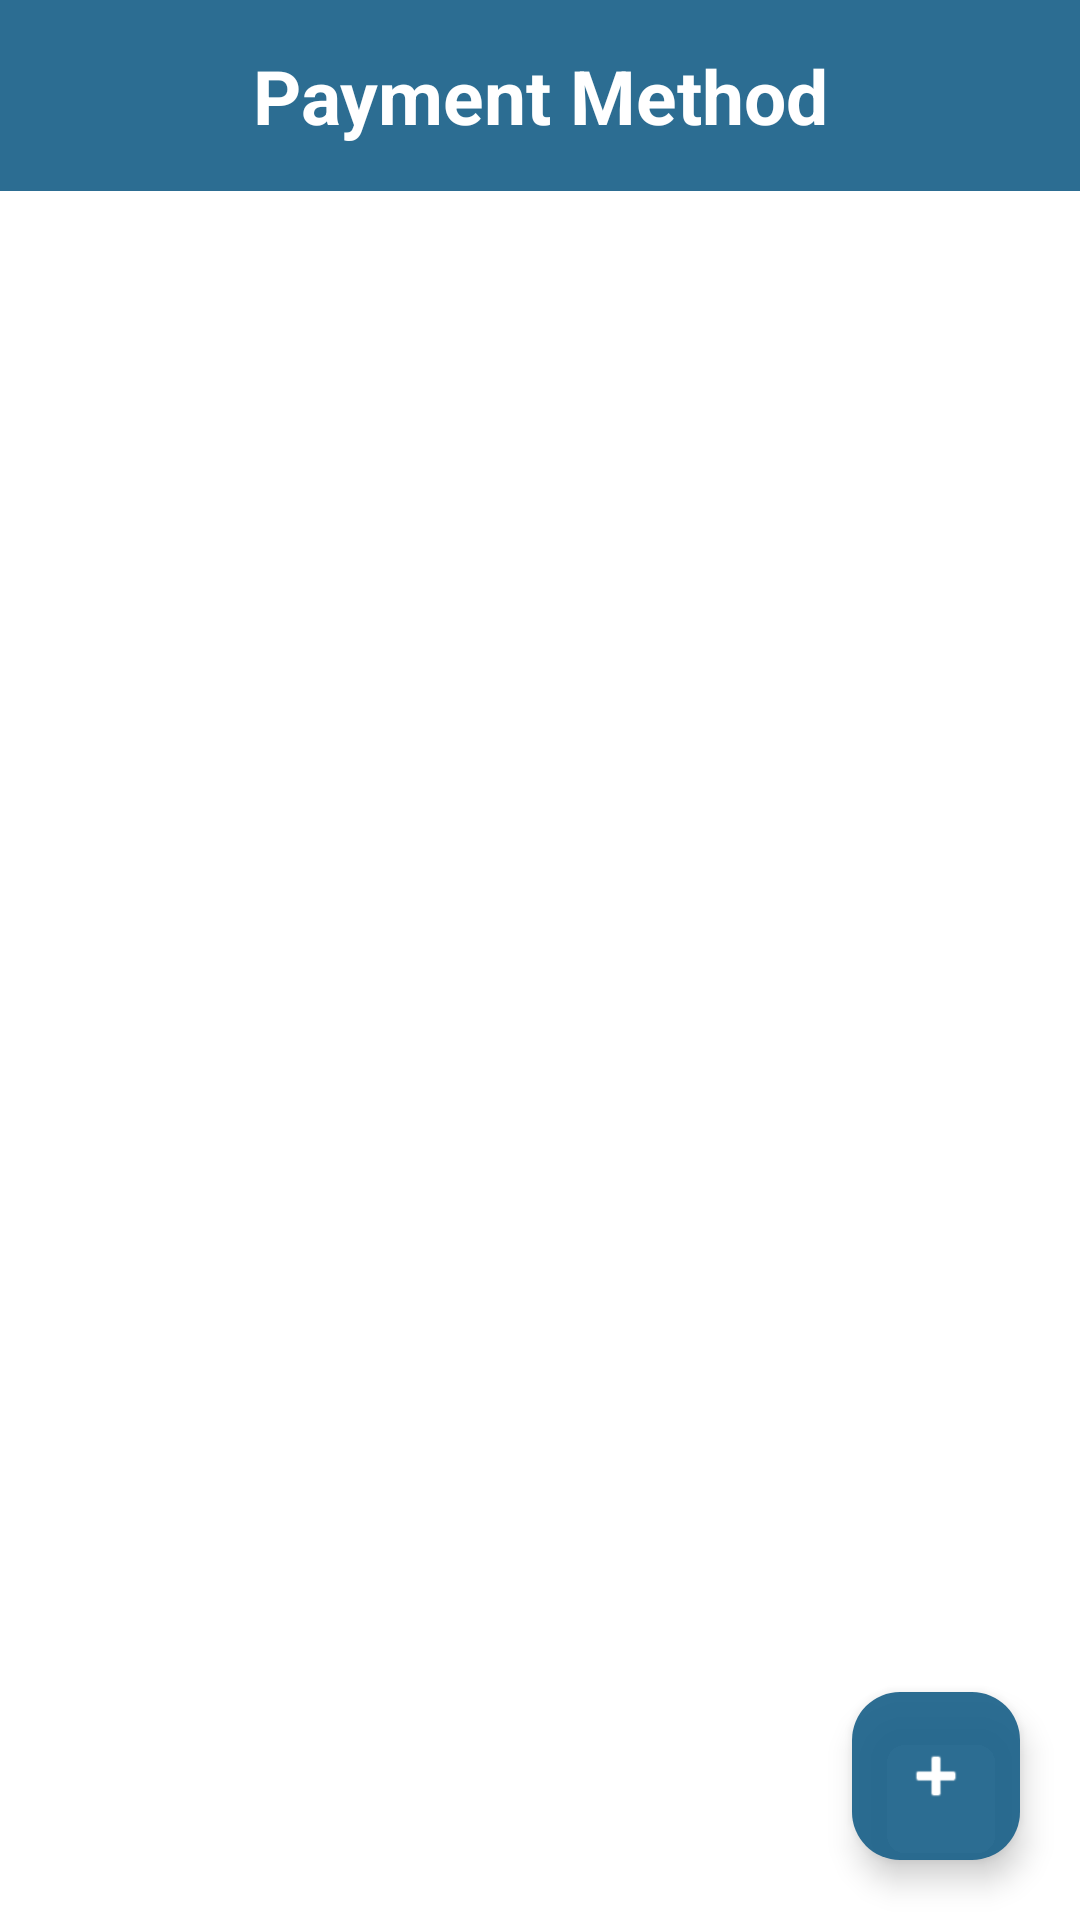

Icons on this 1080*1920 Android screen, each with its box as Rect(x1, y1, x2, y2):
Add Payment Method: Rect(852, 1692, 1020, 1860)
